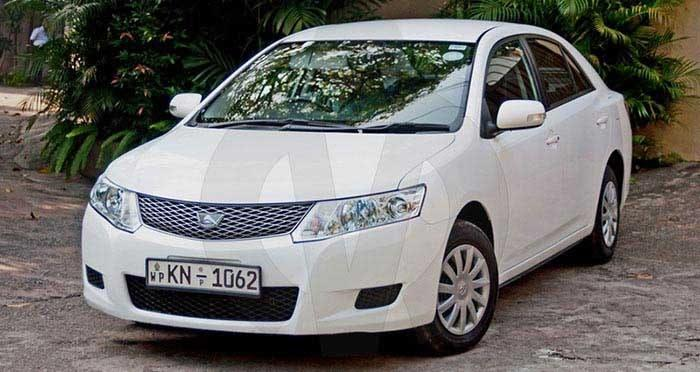license-plate: (147, 259, 258, 292)
